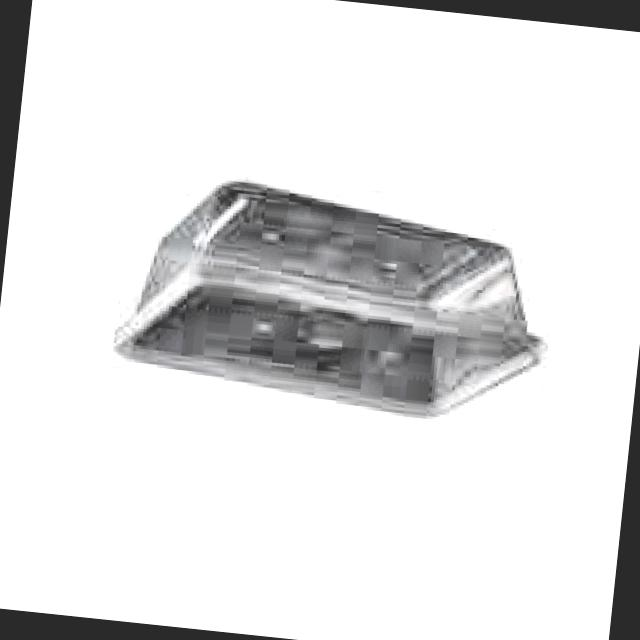plastic container: (432, 335, 456, 398)
